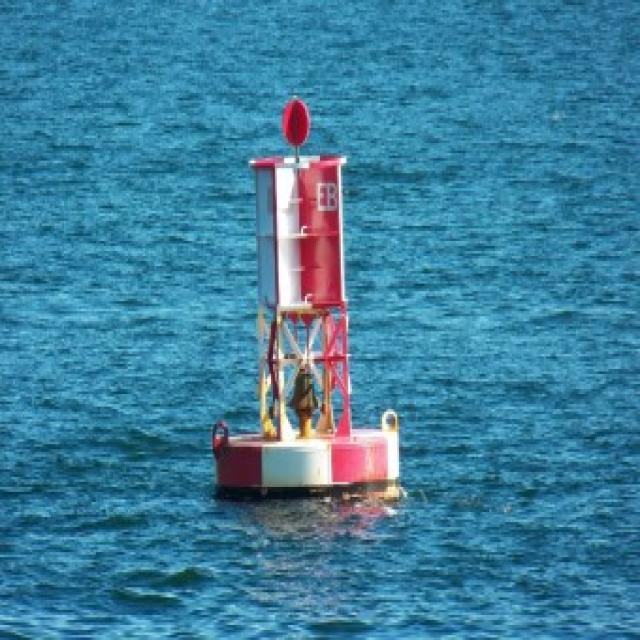marque: (202, 83, 418, 513)
